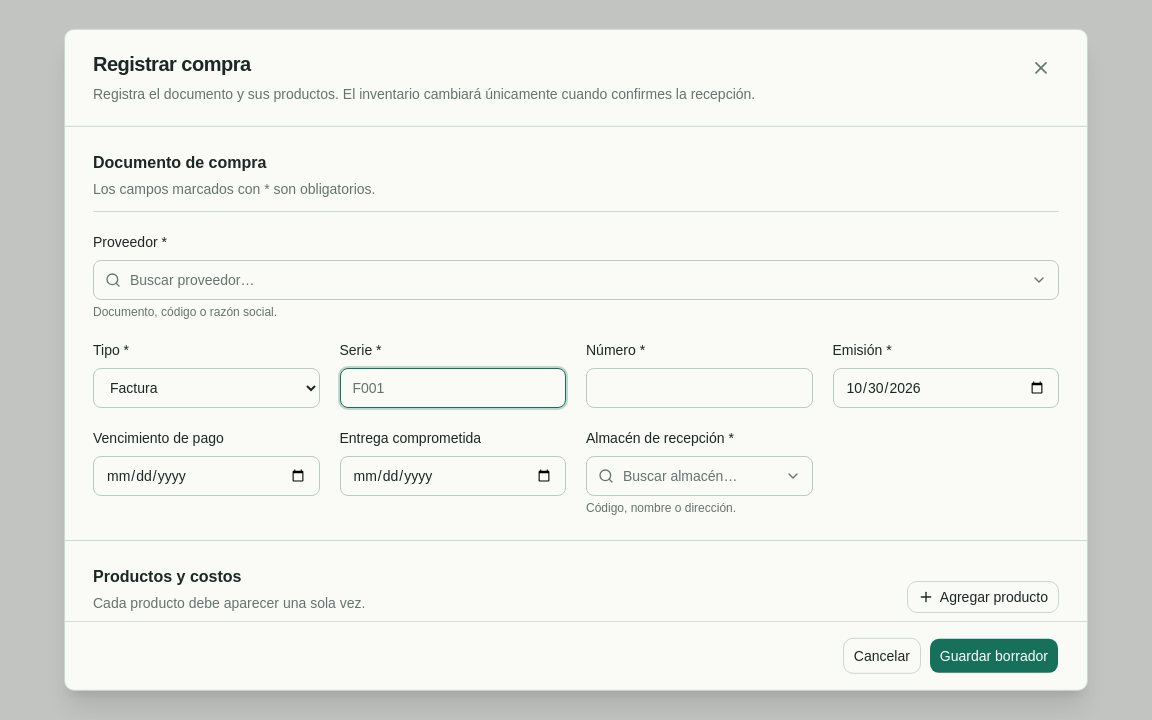
Test case: DialogoCompra › inicia con una línea vacía, permite buscar el producto y conserva la línea mínima
Type "20523621212" into the dropdown labelled "Proveedor" at [576, 280], box left=93, top=260, right=1059, bottom=300
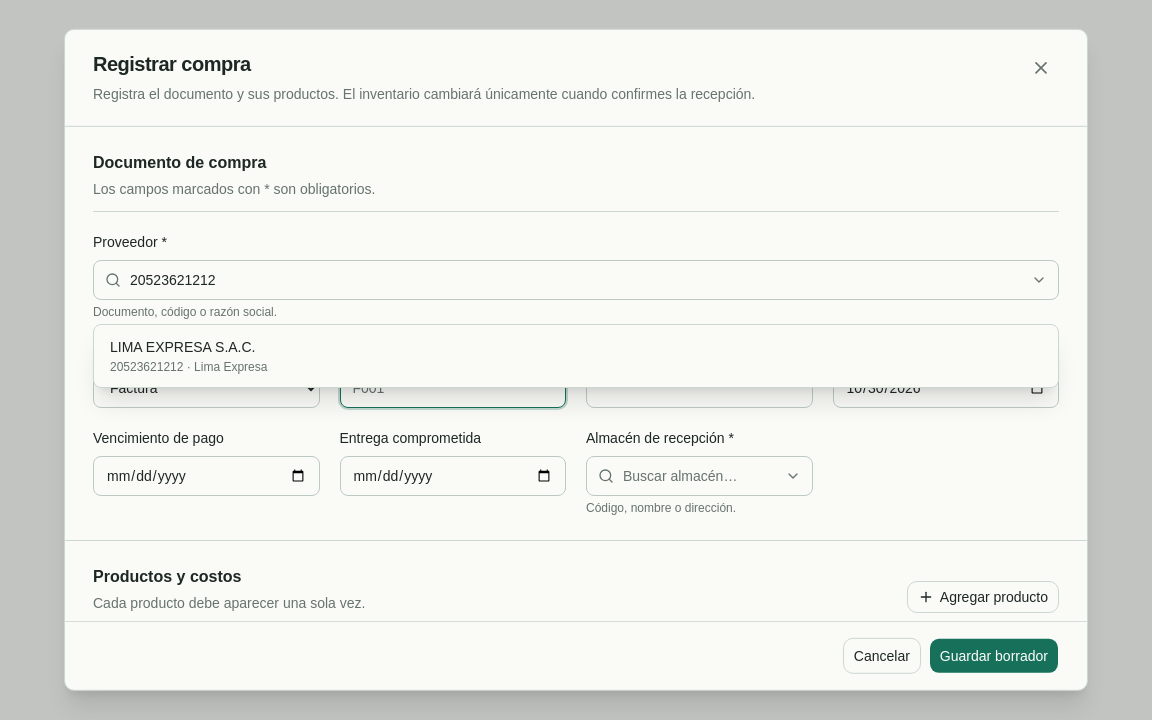
Result: the option "LIMA EXPRESA S.A.C. 20523621212 · Lima Expresa" is shown
Click the option "LIMA EXPRESA S.A.C. 20523621212 · Lima Expresa" at [189, 356], box left=110, top=339, right=268, bottom=374
(page scrolled)
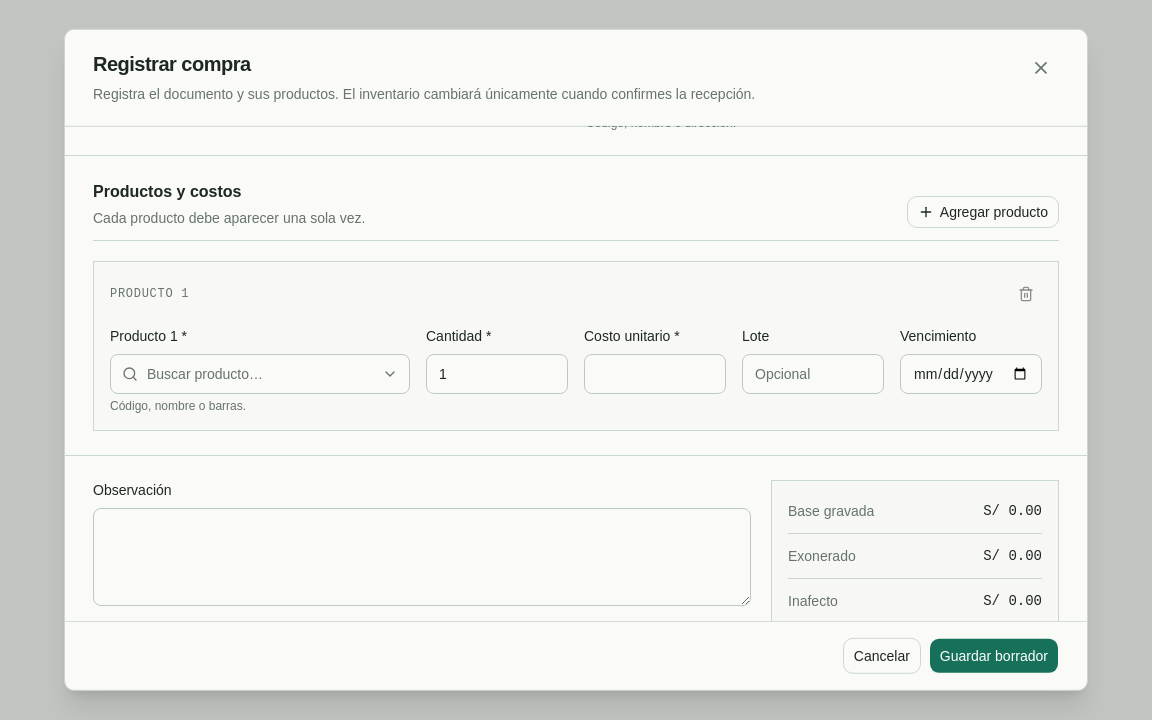
Focus the dropdown labelled "Producto 1" at [260, 374], box left=110, top=354, right=410, bottom=394
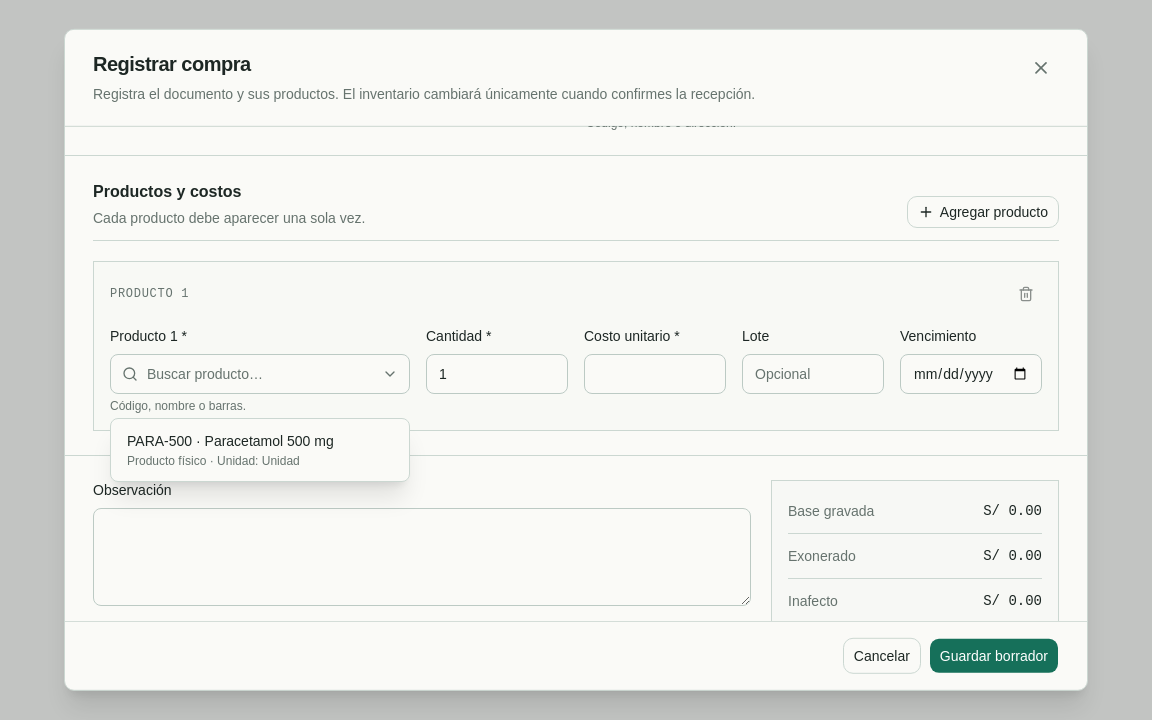
Result: the option "PARA-500" is shown at left=127, top=433, right=334, bottom=468
Type "paracetamol" into the dropdown labelled "Producto 1" at [260, 374], box left=110, top=354, right=410, bottom=394
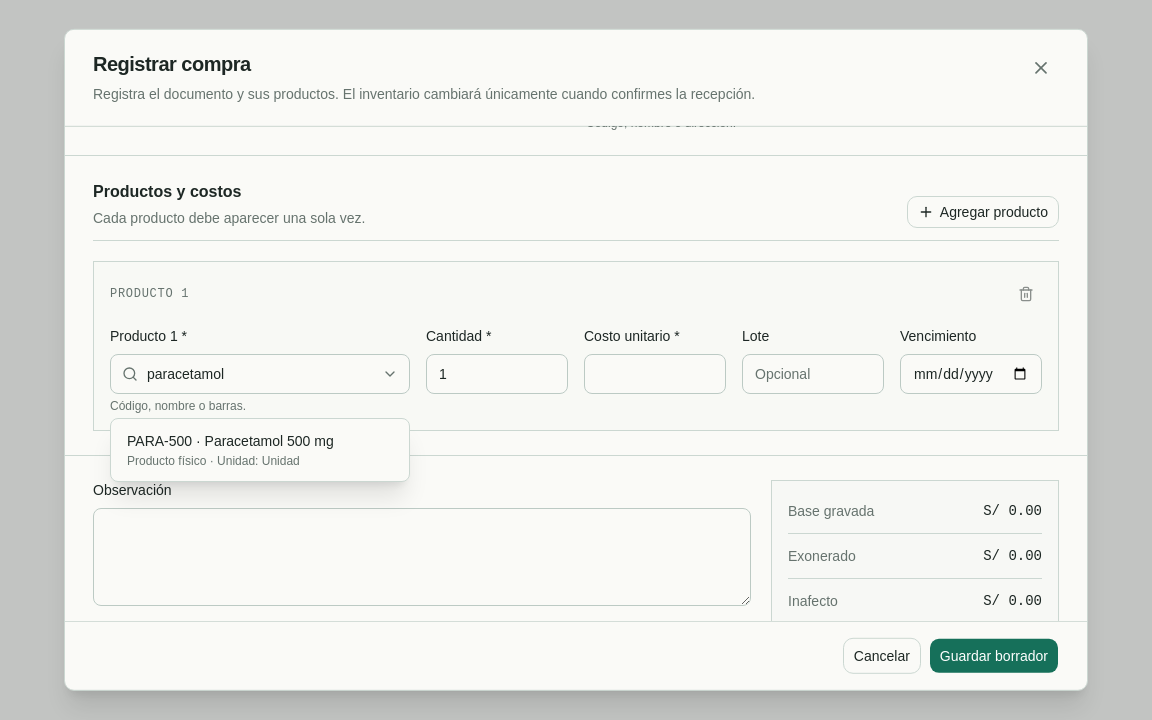
Click the option "PARA-500" at [230, 450], box left=127, top=433, right=334, bottom=468
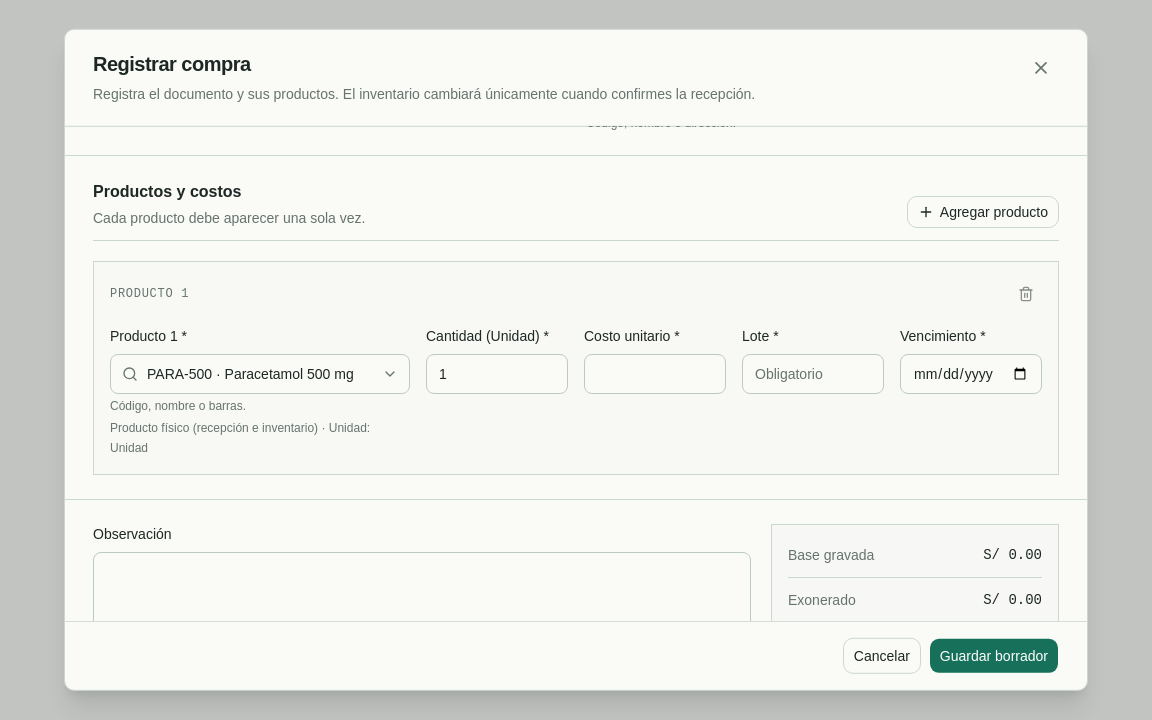
Result: the button named "Quitar producto 1" is disabled at left=1010, top=278, right=1042, bottom=310
Result: the text "Producto físico (recepción e inventario) · Unidad: Unidad" is shown at left=110, top=418, right=410, bottom=458
Result: the text "Cantidad (Unidad) *" is shown at left=426, top=326, right=568, bottom=346
